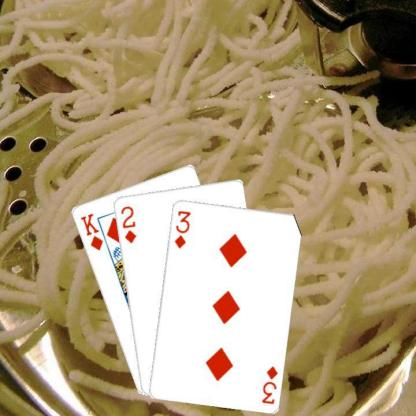2D: (118, 203, 137, 244)
3D: (172, 208, 192, 250), (259, 363, 278, 405)
KD: (77, 210, 104, 252)
